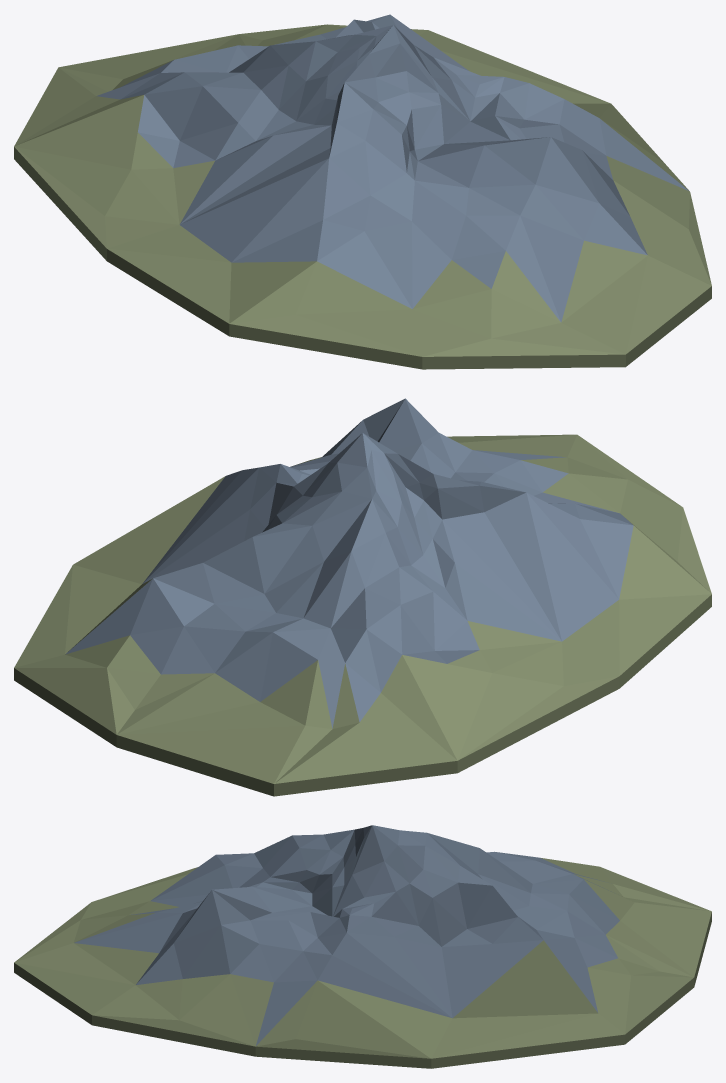
The model's file is massif_cirque_wall.glb.
3 views of the same model, one above another, from view 1: azimuth 30°, elevation 25°; view 2: azimuth 150°, elevation 25°; view 3: azimuth 270°, elevation 25° (orthographic). The views are drawn at different scales.
Visible parts, largest first — view 1: massif_cirque_wall; view 2: massif_cirque_wall; view 3: massif_cirque_wall.
Part boxes in pixels (box(x1,y1,x2,y2)): massif_cirque_wall: box(14, 14, 711, 369); massif_cirque_wall: box(14, 398, 711, 796); massif_cirque_wall: box(14, 825, 711, 1068).
Bounding box in the file's own units: 454 × 149 × 651.
